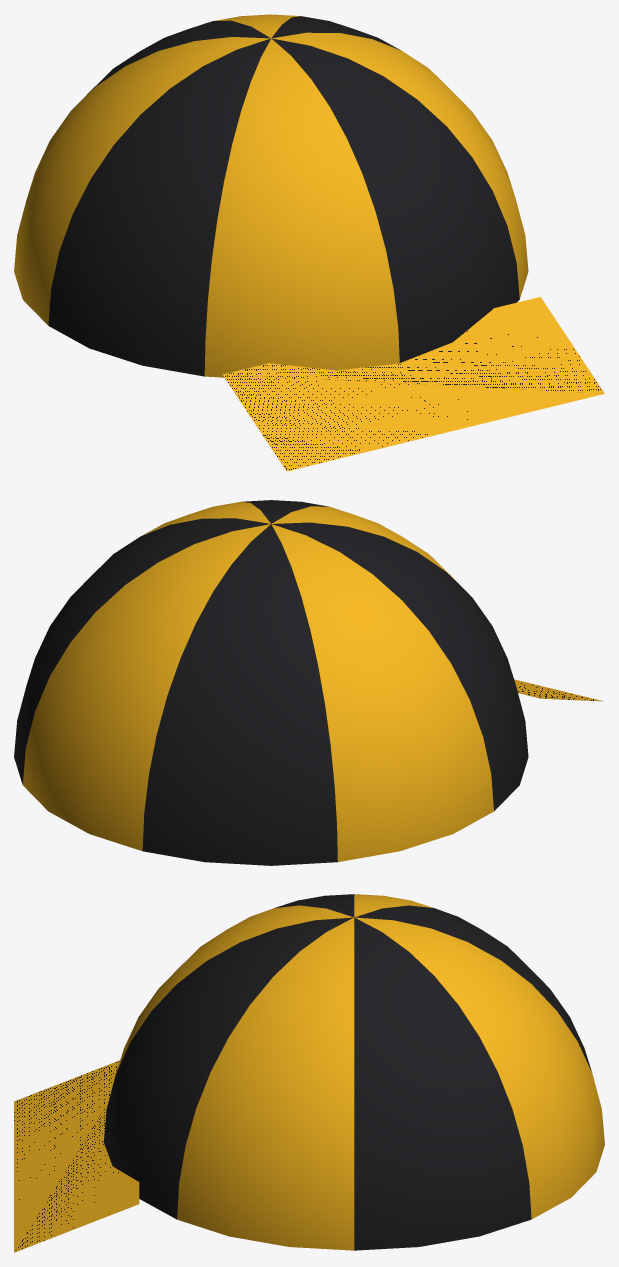
Rendered from casco.glb.
The picture shows the model from 3 angles, top to bottom: view 1: azimuth 30°, elevation 25°; view 2: azimuth 150°, elevation 25°; view 3: azimuth 270°, elevation 25°; orthographic projection. The views are drawn at different scales.
Parts seen in each view (by area): view 1: Casco; view 2: Casco; view 3: Casco.
Part boxes in pixels (left/top/right/bottom): Casco: left=14, top=14, right=604, bottom=471; Casco: left=14, top=500, right=604, bottom=865; Casco: left=14, top=894, right=604, bottom=1252.
Bounding box in the file's own units: 28 × 16 × 33.
Materials: 1 (1 with a texture image).
